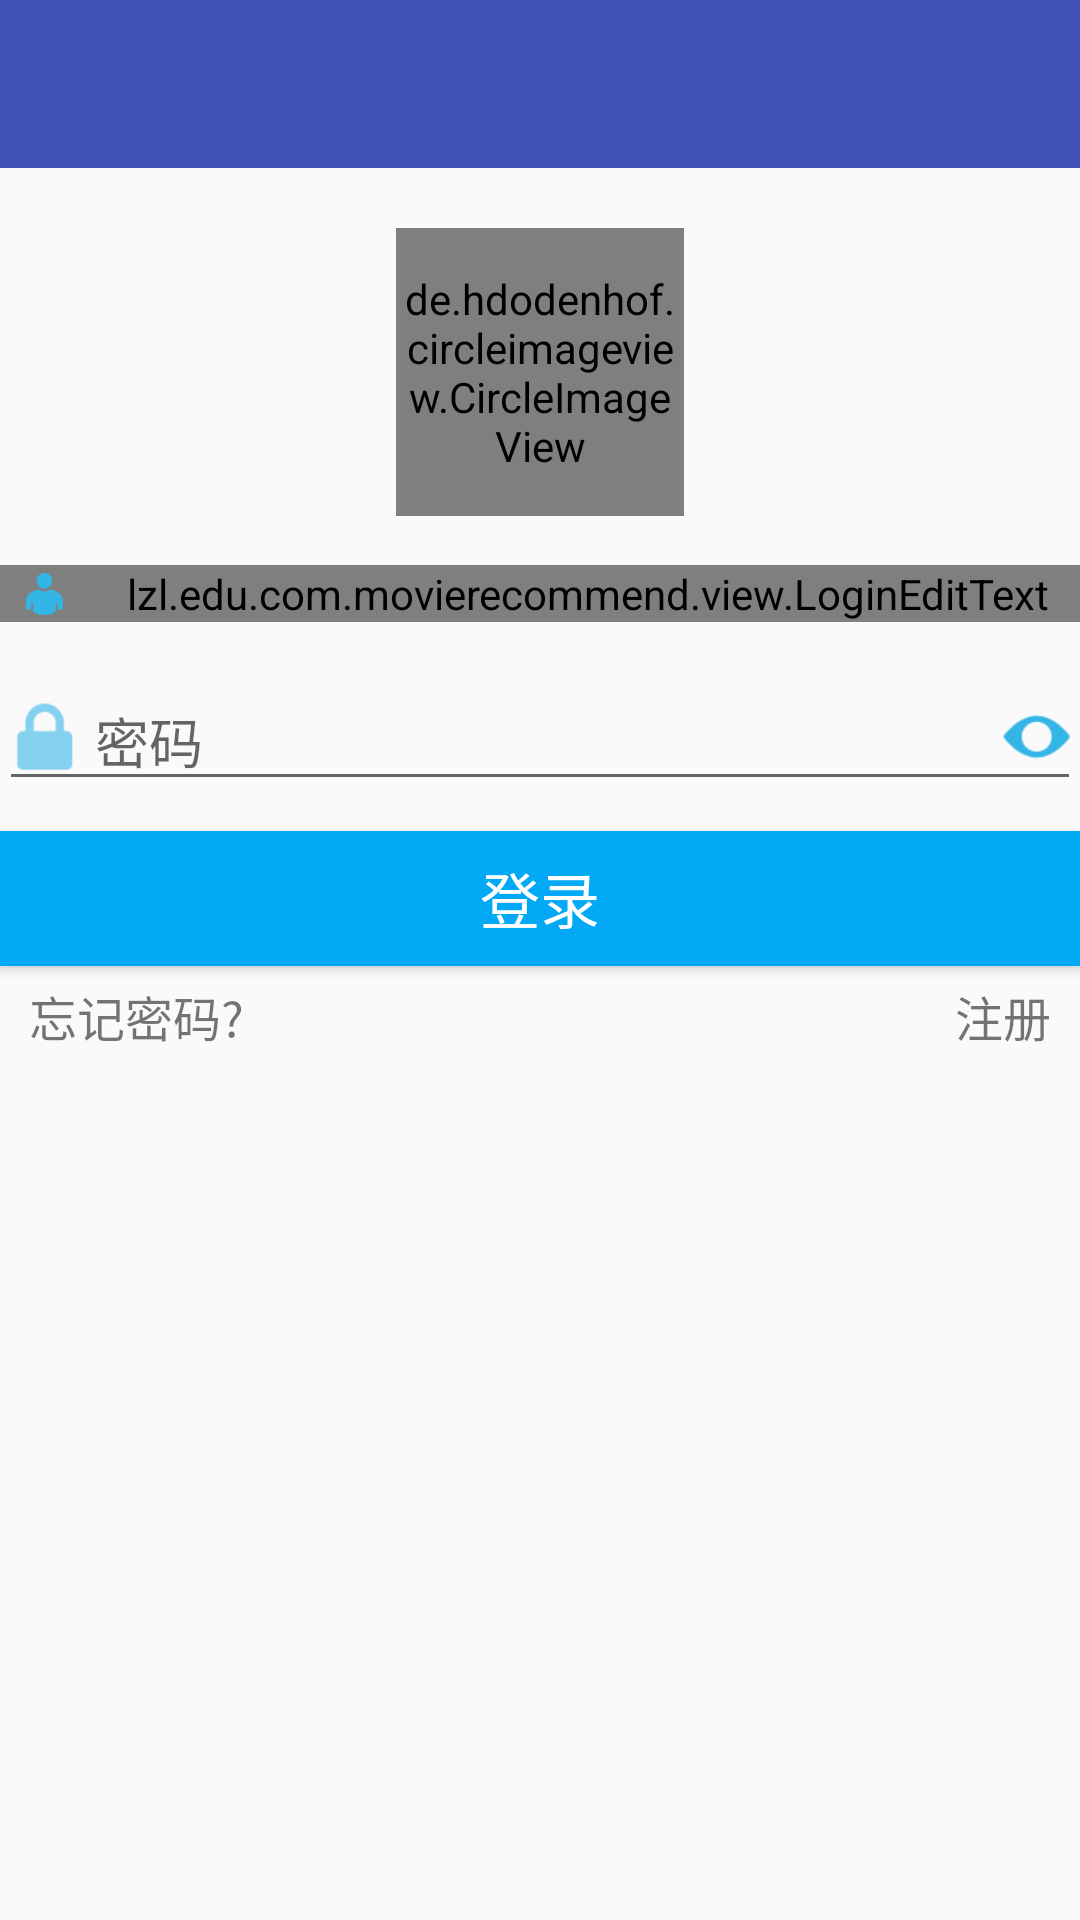

Locate icon controls on the screen. Image size 1080px×1920px, boxes as (x1, y1, x2, y2).
invisible: (1003, 715, 1070, 759)
